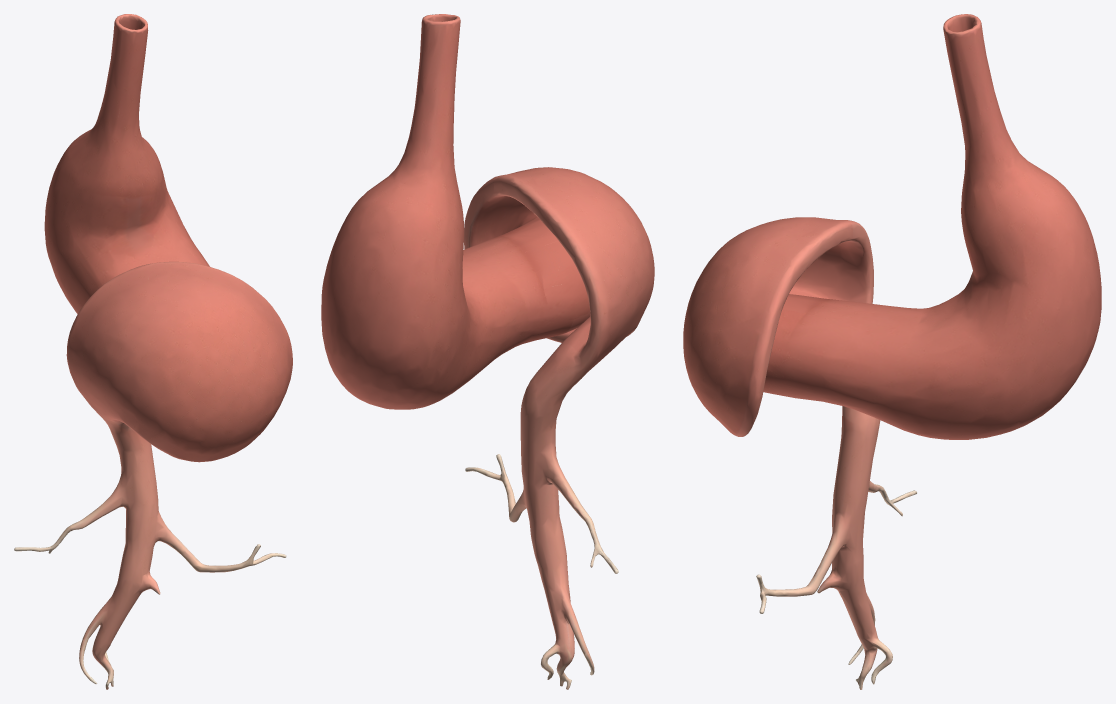
File: Part_GastricGland.glb
3 renders of one model, left to right at view 1: azimuth 30°, elevation 25°; view 2: azimuth 150°, elevation 25°; view 3: azimuth 270°, elevation 25°, orthographic. The views are drawn at different scales.
Size of the model in its own units: 0.7049 by 1.9 by 1.02.
1 material, 1 textured.
